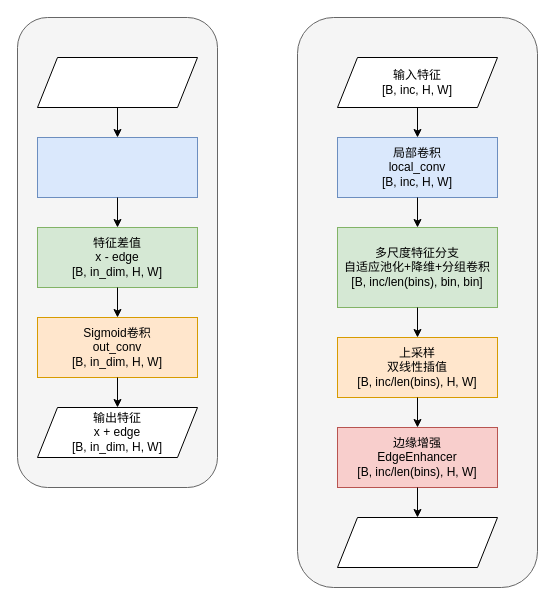
Some shapes in this 555 by 605 pixel diagram are drawn without their labels. Each missing label, with the box of its shape:
MutilScaleEdgeInformationEnhance: (296, 16, 538, 588)
平均池化 AvgPool2d(3,1,1) [B, in_dim, H, W]: (36, 136, 198, 198)
最终输出 特征拼接+卷积 [B, inc, H, W]: (336, 516, 498, 568)
输入特征 [B, in_dim, H, W]: (36, 56, 198, 108)
